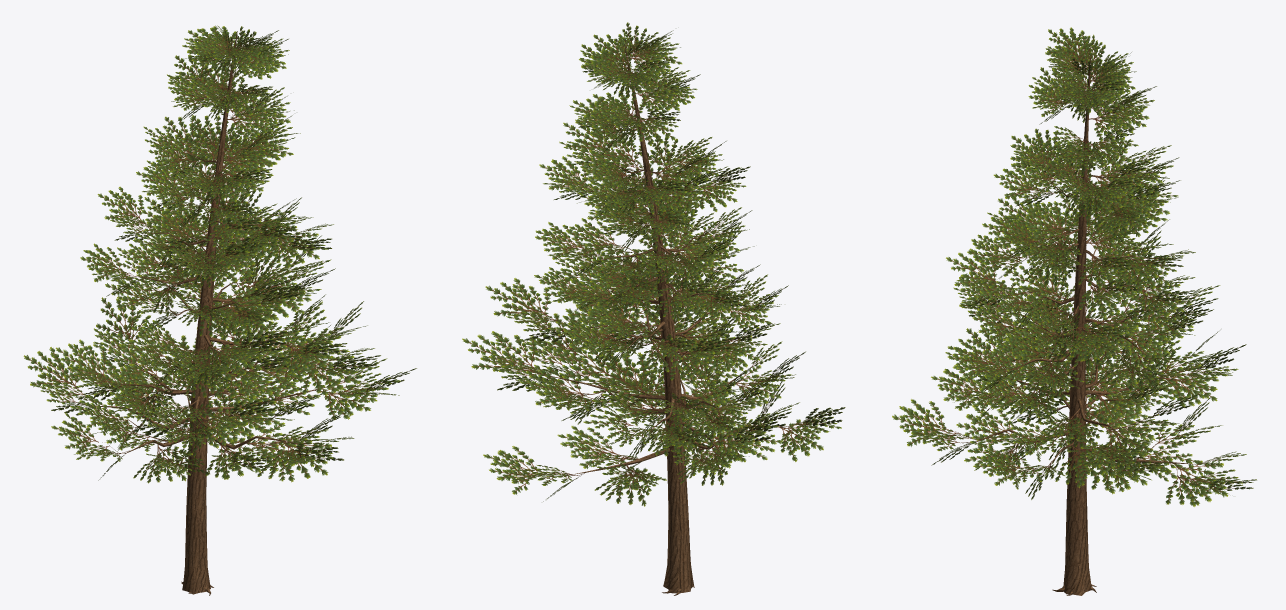
File: corealm_pine_2.glb
3 renders of one model, left to right at view 1: azimuth 30°, elevation 25°; view 2: azimuth 150°, elevation 25°; view 3: azimuth 270°, elevation 25°, orthographic. The views are drawn at different scales.
Parts seen in each view (by area): view 1: corealm_pine_2; view 2: corealm_pine_2; view 3: corealm_pine_2.
Part boxes in pixels (x1,y1,x2,y2): corealm_pine_2: (23, 25, 416, 595); corealm_pine_2: (462, 22, 845, 595); corealm_pine_2: (892, 27, 1256, 595).
Bounding box in the file's own units: 6.38 × 9.73 × 5.89.
2 materials, 2 textured.
